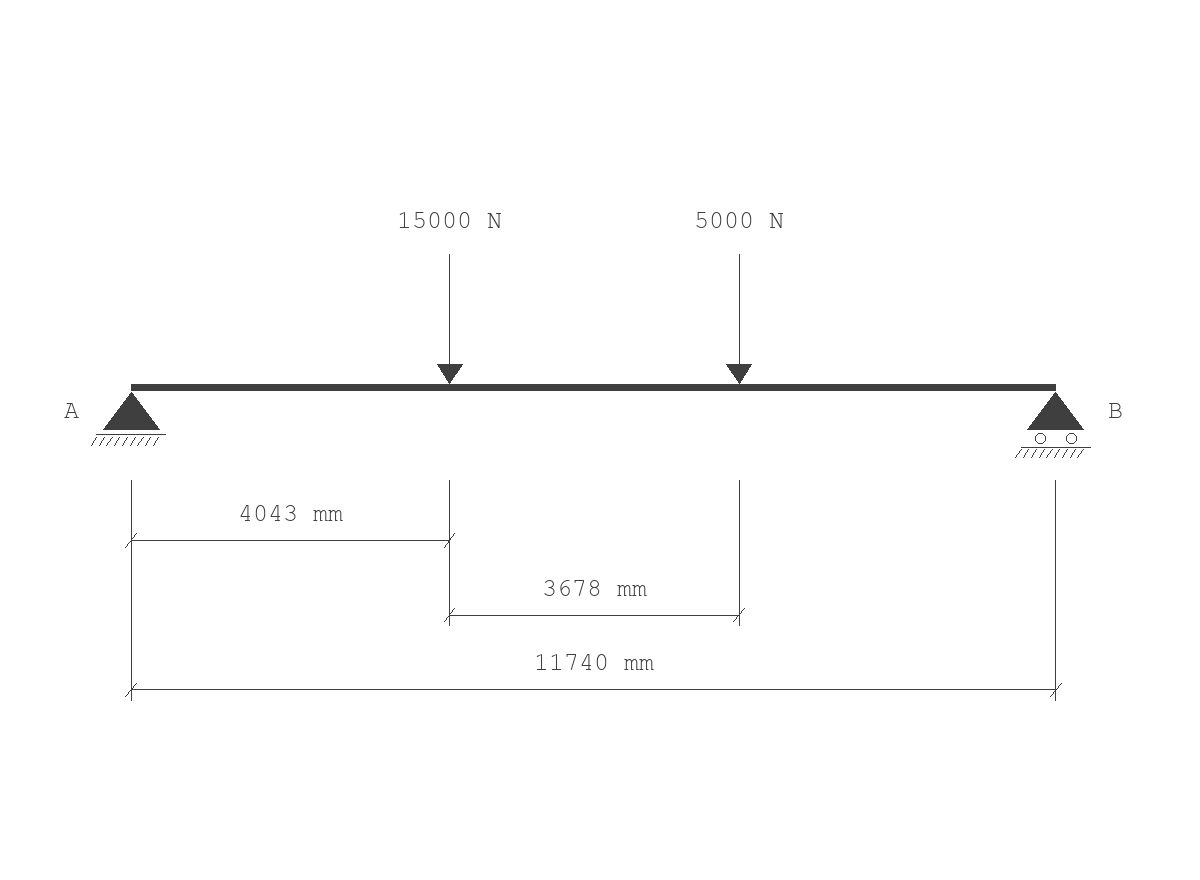pin_support: (91, 392, 166, 446)
point_load: (437, 254, 463, 384), (726, 254, 752, 384)
roller_support: (1015, 392, 1091, 458)
